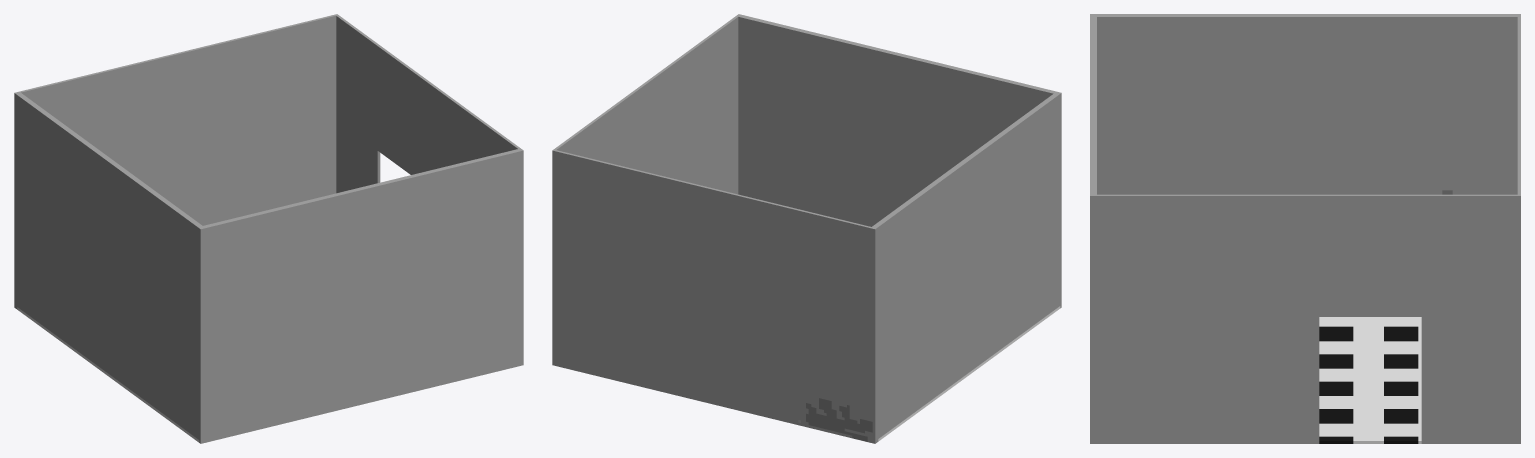
Rendered from 4x2 third (des)-1.obj.
3 views of the same model, side by side, from view 1: azimuth 30°, elevation 25°; view 2: azimuth 150°, elevation 25°; view 3: azimuth 270°, elevation 25° (orthographic). The views are drawn at different scales.
Visible parts, largest first — view 1: 4x2 third (des)-1; view 2: 4x2 third (des)-1; view 3: 4x2 third (des)-1.
Boxes of the visible parts, x1=… form: 4x2 third (des)-1: x1=14, y1=14, x2=523, y2=443; 4x2 third (des)-1: x1=552, y1=14, x2=1061, y2=443; 4x2 third (des)-1: x1=1090, y1=14, x2=1520, y2=443.
Size of the model in its own units: 126 by 80 by 126.
Materials: 1 (1 with a texture image).
